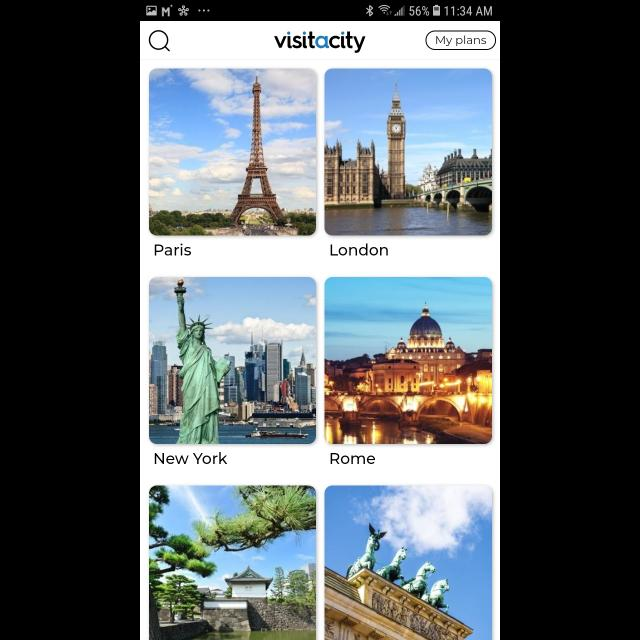icon: (149, 30, 171, 52)
image: (324, 276, 492, 444), (324, 68, 492, 235), (150, 68, 316, 235), (150, 278, 316, 444), (324, 486, 492, 640), (150, 486, 316, 640), (274, 32, 366, 54)
text: (154, 452, 228, 464), (331, 244, 389, 256), (330, 454, 376, 464), (154, 244, 192, 256)
textbutton: (426, 31, 496, 51)
uppertaskbar: (140, 1, 500, 22)
